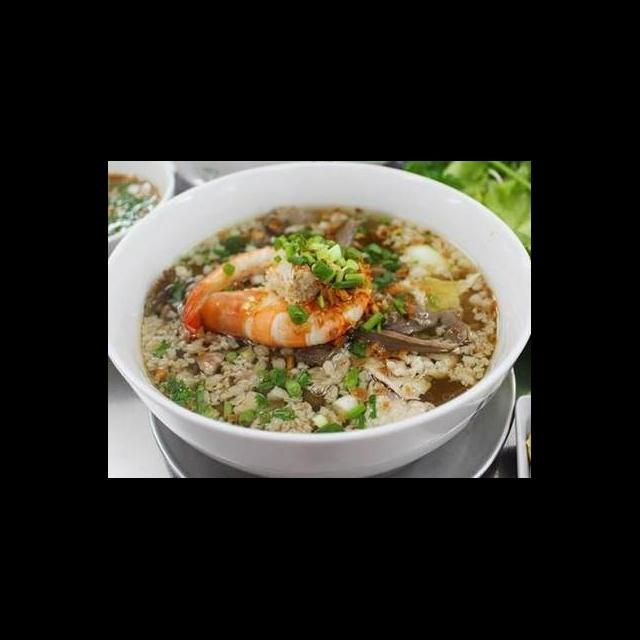thit bam: (134, 306, 358, 442), (426, 327, 498, 392), (456, 268, 504, 340)
thit heo: (339, 376, 442, 438), (356, 349, 462, 406)
tom: (178, 236, 374, 352)
trung: (396, 238, 456, 290)
